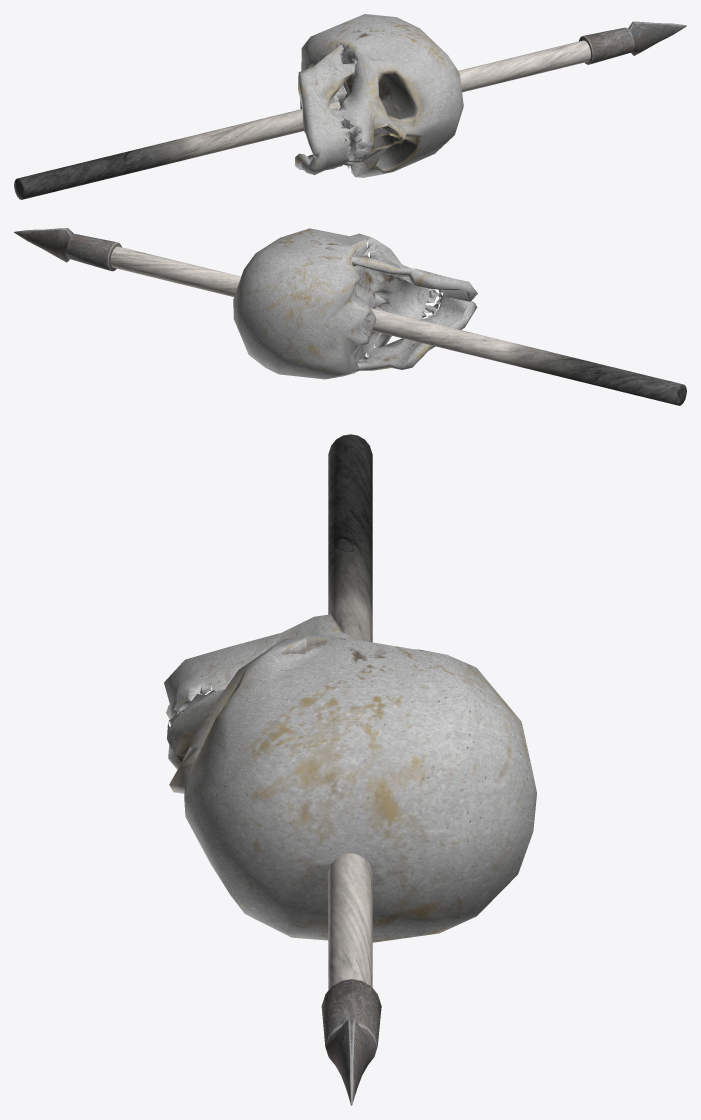
File: palka_3.glb
The picture shows the model from 3 angles, top to bottom: view 1: azimuth 30°, elevation 25°; view 2: azimuth 150°, elevation 25°; view 3: azimuth 270°, elevation 25°; orthographic projection. The views are drawn at different scales.
Parts seen in each view (by area): view 1: palka_3; view 2: palka_3; view 3: palka_3.
Part boxes in pixels (box(x1,y1,x2,y2)): palka_3: box(14, 14, 686, 199); palka_3: box(14, 228, 686, 405); palka_3: box(164, 434, 536, 1105).
Bounding box in the file's own units: 84.13 × 15.46 × 20.39.
Materials: 3 (3 with a texture image).
